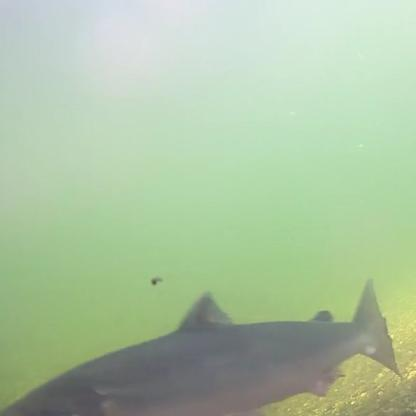salmon: (0, 275, 408, 415)
